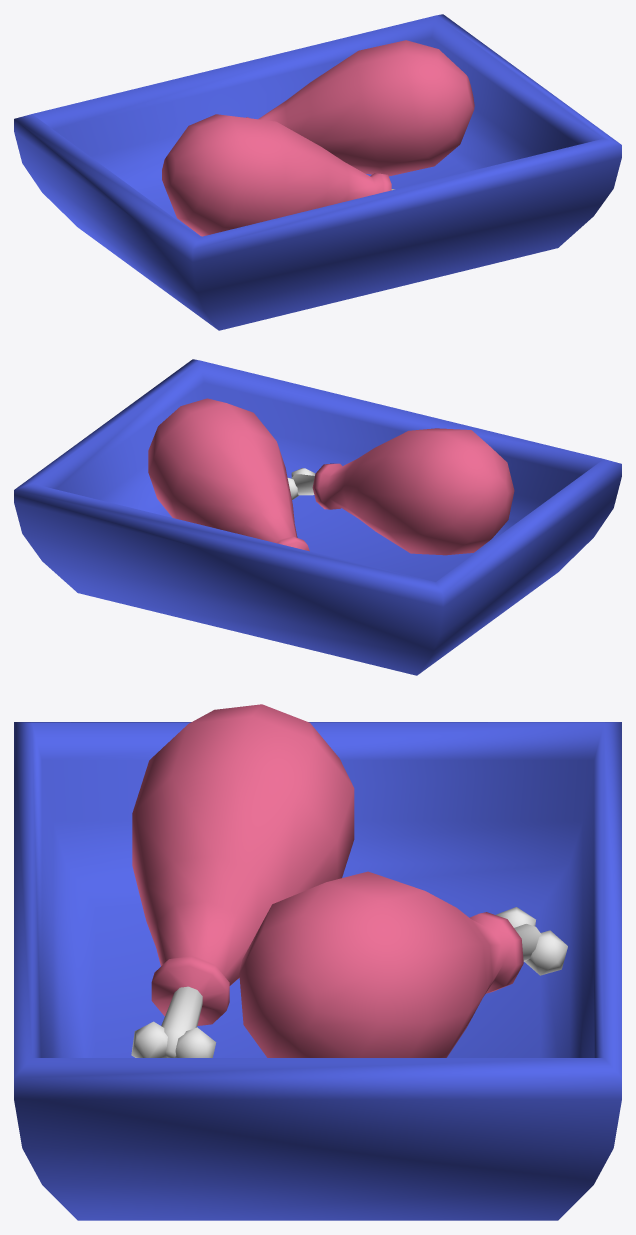
File: pollo_cosce.fbx
3 renders of one model, top to bottom at view 1: azimuth 30°, elevation 25°; view 2: azimuth 150°, elevation 25°; view 3: azimuth 270°, elevation 25°, orthographic. The views are drawn at different scales.
Parts seen in each view (by area): view 1: pollo_cosce; view 2: pollo_cosce; view 3: pollo_cosce.
Part boxes in pixels (x1,y1,x2,y2): pollo_cosce: (14, 14, 621, 330); pollo_cosce: (14, 359, 621, 675); pollo_cosce: (14, 704, 621, 1220).
Bounding box in the file's own units: 1232 × 444 × 889.
